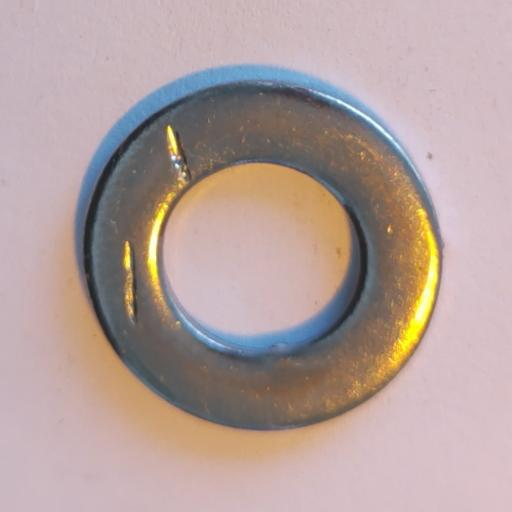scratch: (165, 125, 193, 187), (122, 241, 137, 323)
